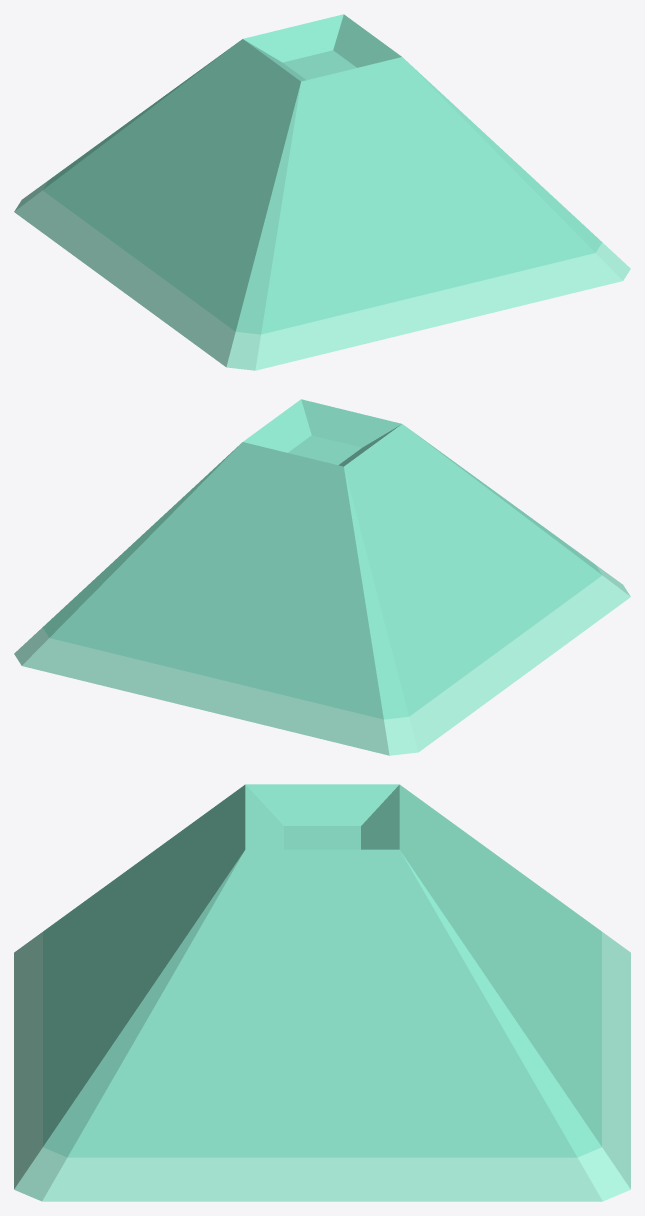
The picture shows the model from 3 angles, top to bottom: view 1: azimuth 30°, elevation 25°; view 2: azimuth 150°, elevation 25°; view 3: azimuth 270°, elevation 25°; orthographic projection. The views are drawn at different scales.
Parts seen in each view (by area): view 1: roofPoint; view 2: roofPoint; view 3: roofPoint.
Boxes of the visible parts, x1=… form: roofPoint: x1=14, y1=14, x2=630, y2=370; roofPoint: x1=14, y1=399, x2=630, y2=755; roofPoint: x1=14, y1=784, x2=630, y2=1201.
Size of the model in its own units: 1.1 by 0.5 by 1.1.
